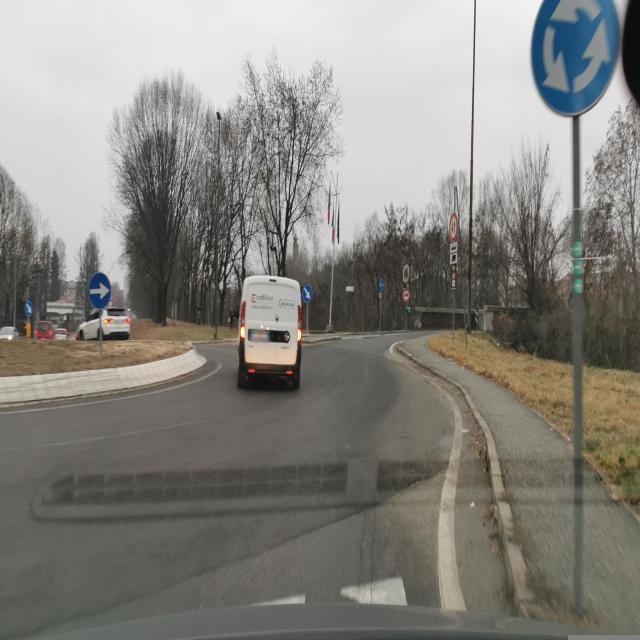car: (238, 274, 302, 389), (76, 306, 131, 342), (0, 326, 20, 340), (53, 325, 68, 339)
